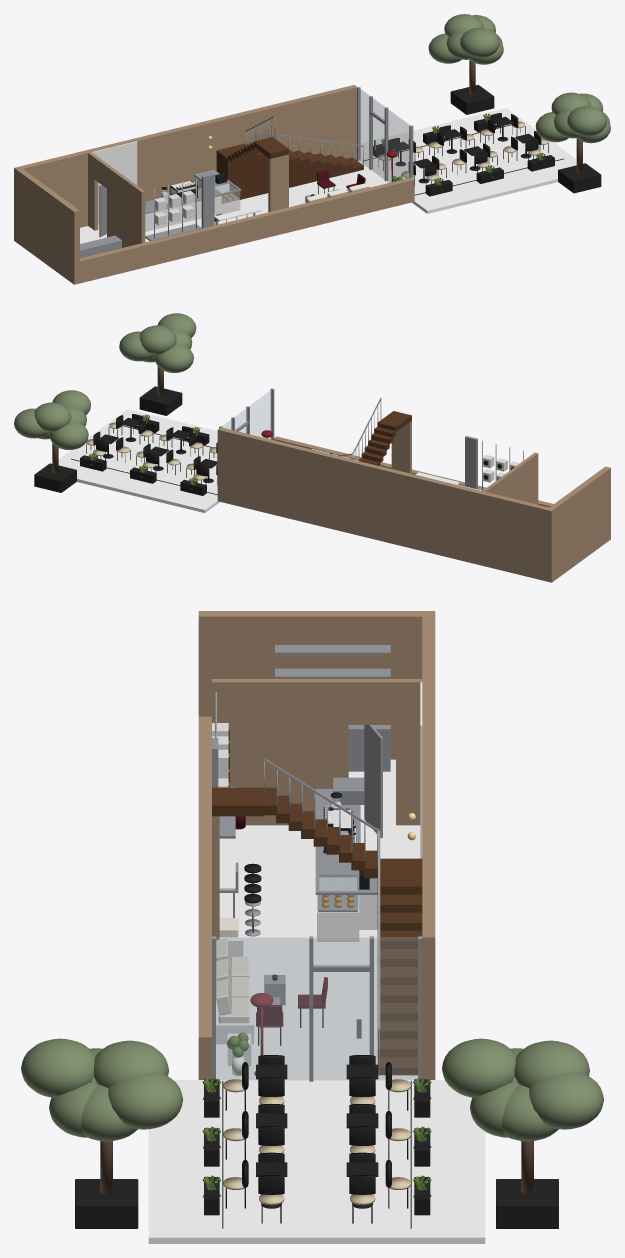
File: cafe-3d-ground.glb
3 renders of one model, top to bottom at view 1: azimuth 30°, elevation 25°; view 2: azimuth 150°, elevation 25°; view 3: azimuth 270°, elevation 25°, orthographic. The views are drawn at different scales.
Parts seen in each view (by area): view 1: wall_side_t, out_floor, wall_side_b, wall_back, front_glass, part, floor_g, zclad, landing_wall, corner_landing, canopy.005, canopy.012 (+18 smaller); view 2: wall_side_t, out_floor, wall_back, part, front_glass, tree_box, tree_box.001, landing_wall, canopy.009, canopy.002, canopy.010, canopy.003 (+6 smaller); view 3: out_floor, front_glass, floor_g, part, wall_back, wall_side_t, wall_side_b, part_top, canopy.012, canopy.005, canopy.001, canopy.008 (+21 smaller).
Part boxes in pixels (x1,y1,x2,y2): wall_side_t: (20, 85, 357, 227); out_floor: (359, 108, 576, 213); wall_side_b: (80, 177, 414, 283); wall_back: (14, 166, 79, 284); front_glass: (359, 88, 410, 182); part: (107, 166, 145, 247); floor_g: (80, 161, 388, 243); zclad: (92, 141, 137, 223); landing_wall: (268, 154, 288, 212); corner_landing: (216, 146, 246, 199); canopy.005: (567, 106, 606, 136); canopy.012: (460, 27, 499, 57); wall_side_t: (217, 427, 548, 581); out_floor: (58, 409, 219, 512); wall_back: (546, 466, 610, 582); part: (501, 452, 538, 504); front_glass: (222, 390, 271, 439); tree_box: (139, 386, 182, 415); tree_box.001: (34, 463, 76, 492); landing_wall: (391, 421, 411, 473); canopy.009: (34, 402, 71, 432); canopy.002: (139, 325, 176, 355); canopy.010: (49, 422, 88, 449); canopy.003: (154, 345, 193, 372); out_floor: (148, 1080, 485, 1243); front_glass: (216, 937, 417, 1079); floor_g: (216, 759, 420, 1079); part: (212, 679, 348, 825); wall_back: (198, 611, 435, 759); wall_side_t: (422, 616, 435, 1079); wall_side_b: (198, 716, 211, 1079); part_top: (396, 679, 422, 825); canopy.012: (442, 1038, 516, 1097); canopy.005: (21, 1038, 95, 1097); canopy.001: (108, 1072, 182, 1129); canopy.008: (529, 1072, 603, 1129).
Bounding box in the file's own units: 22.08 × 4.39 × 11.08.
